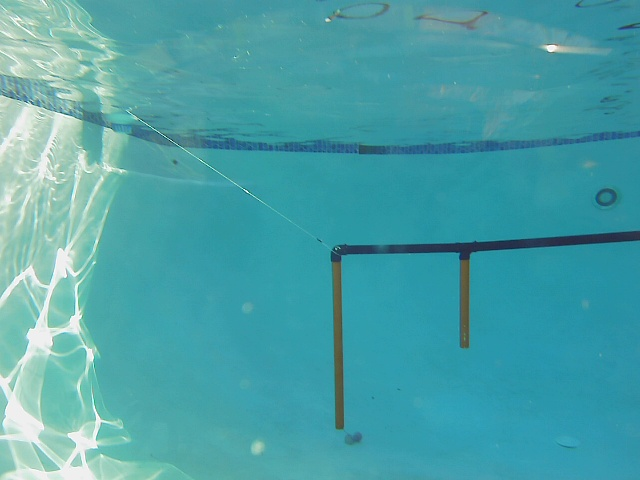Gate: (331, 258, 346, 431), (457, 253, 473, 352)
